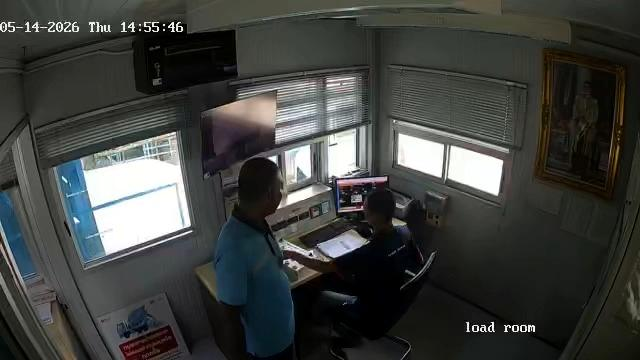Head: (238, 155, 284, 216), (362, 186, 395, 228)
People: (217, 156, 294, 358), (298, 186, 419, 282)
